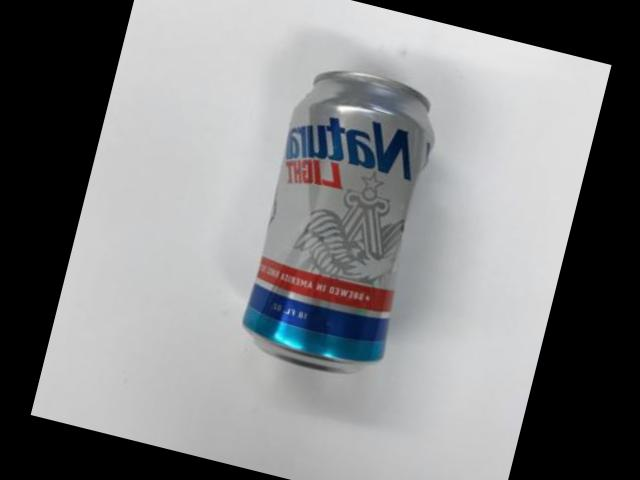metal: (240, 70, 431, 370)
